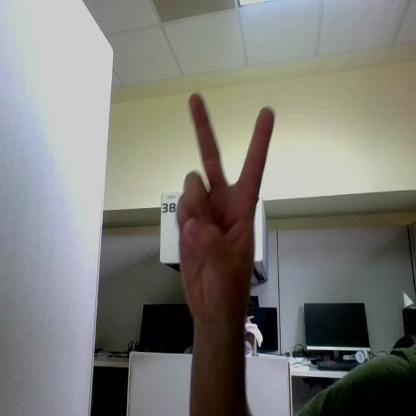V: (176, 94, 274, 312)
